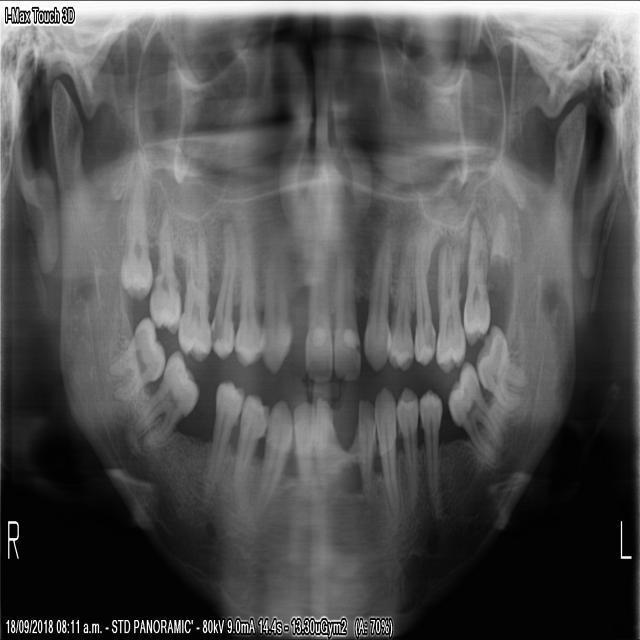LCD: (393, 378, 420, 513)
LCU: (384, 235, 416, 371)
LID: (374, 381, 403, 523), (355, 392, 375, 509)
LIU: (361, 234, 396, 370), (330, 253, 361, 386)
LMD: (444, 357, 509, 461), (475, 319, 532, 417)
LMU: (461, 208, 489, 347), (487, 207, 512, 275)
LPMD: (417, 382, 443, 518)
LPMU: (433, 241, 465, 375), (411, 240, 435, 367)
RCD: (252, 399, 293, 516)
RCU: (232, 230, 263, 370)
RID: (292, 392, 316, 499), (311, 394, 335, 488)
RIU: (262, 238, 293, 375), (302, 262, 332, 385)
RMD: (126, 346, 198, 452), (106, 306, 168, 410)
RMU: (116, 182, 154, 300), (147, 208, 182, 335)
RPMD: (204, 375, 247, 506), (230, 386, 269, 473)
RPMU: (176, 232, 212, 362), (207, 226, 239, 363)
